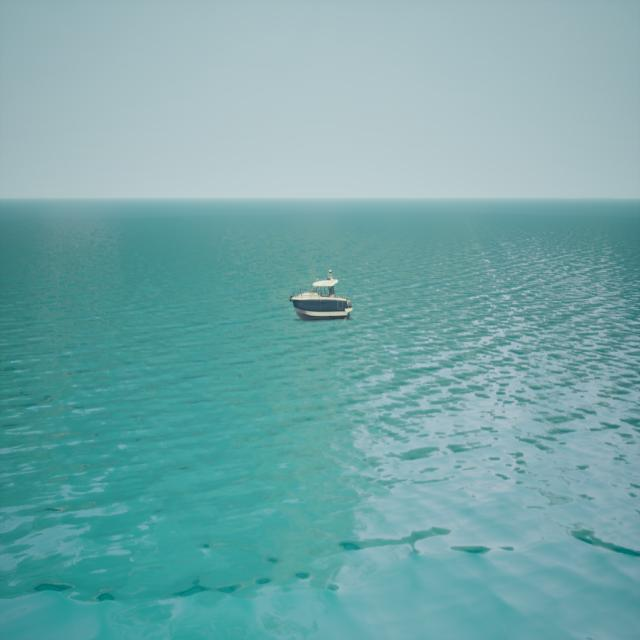ship: (289, 269, 353, 319)
